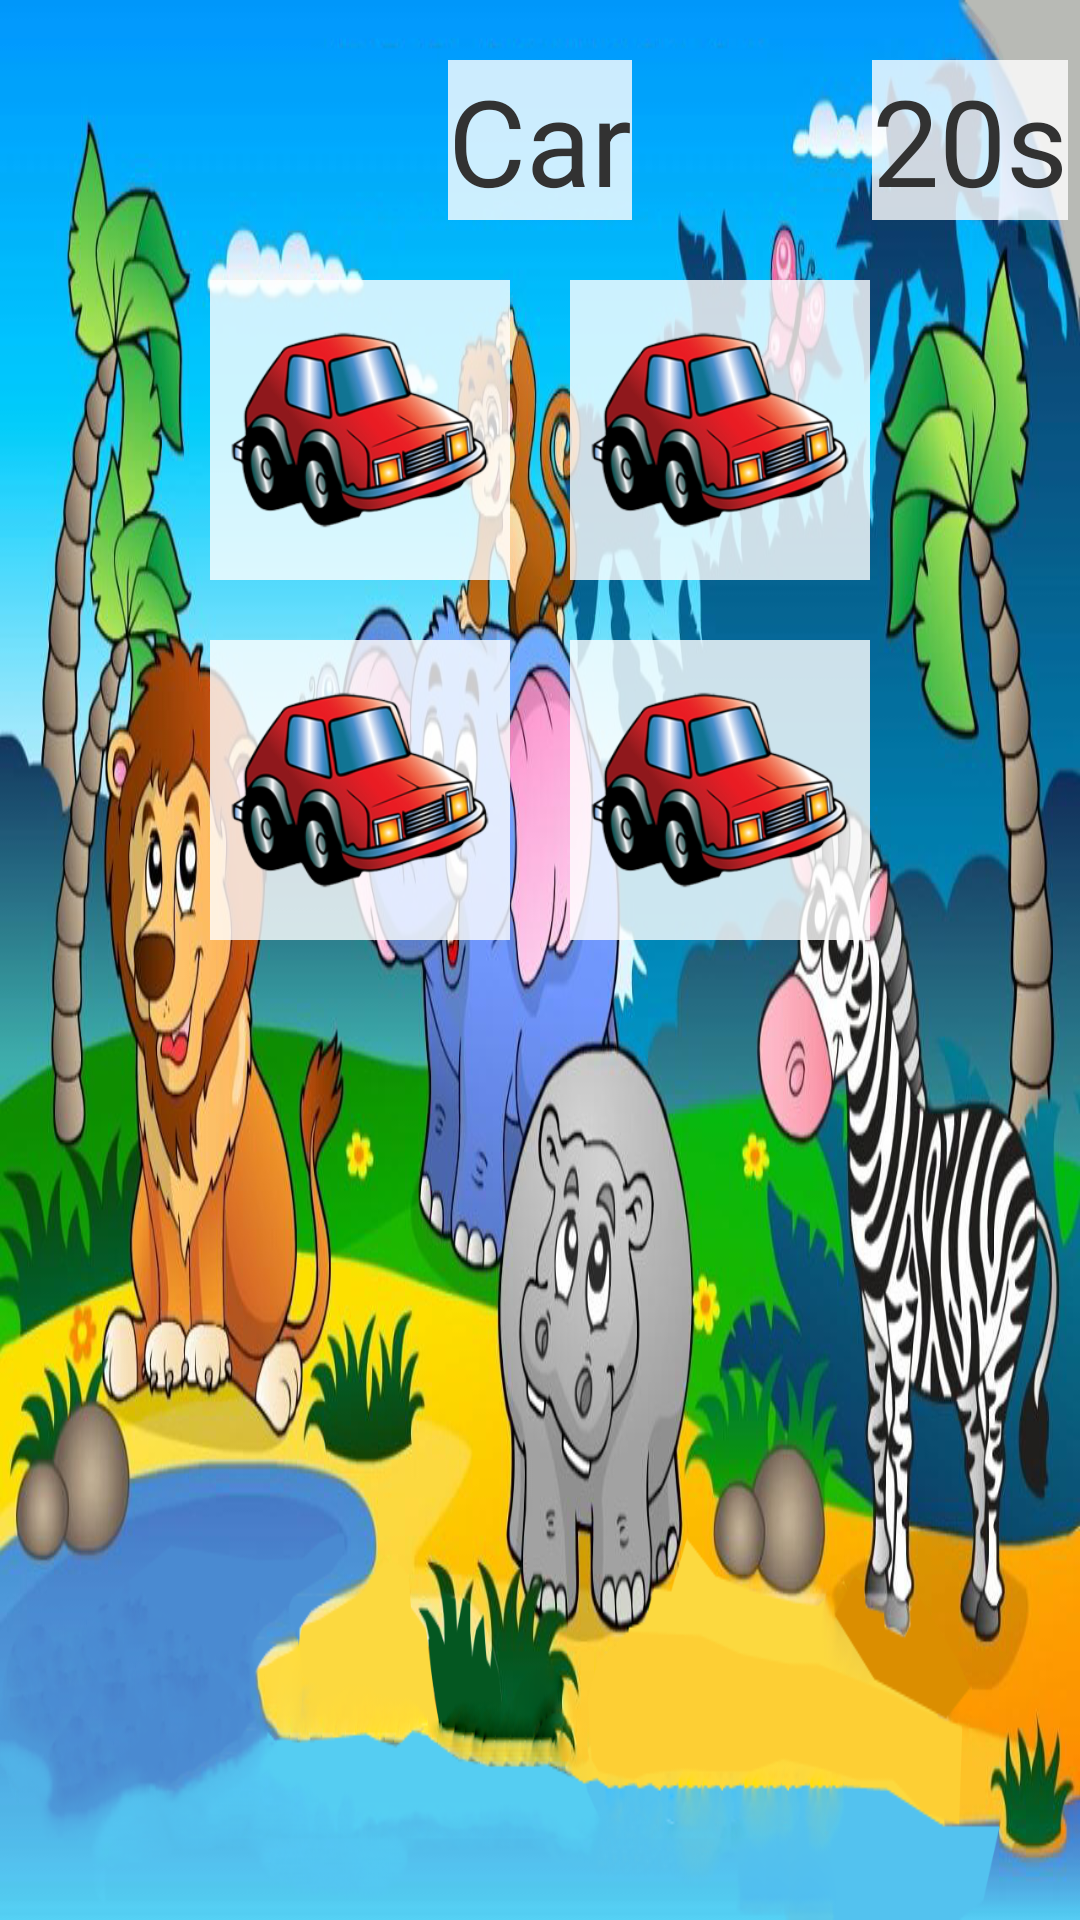

Icon click points for this 1080px×1920px phone screenshot, format [x,y]:
subject car: [360,430], [720,430], [360,790], [720,790]
